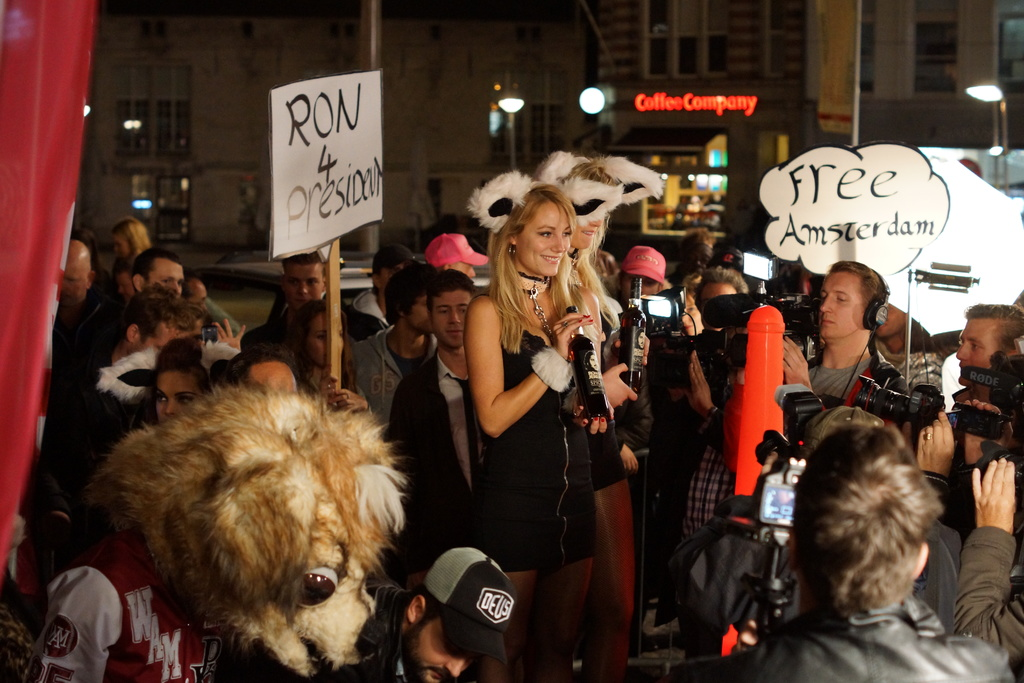Animal: (75, 381, 409, 680)
